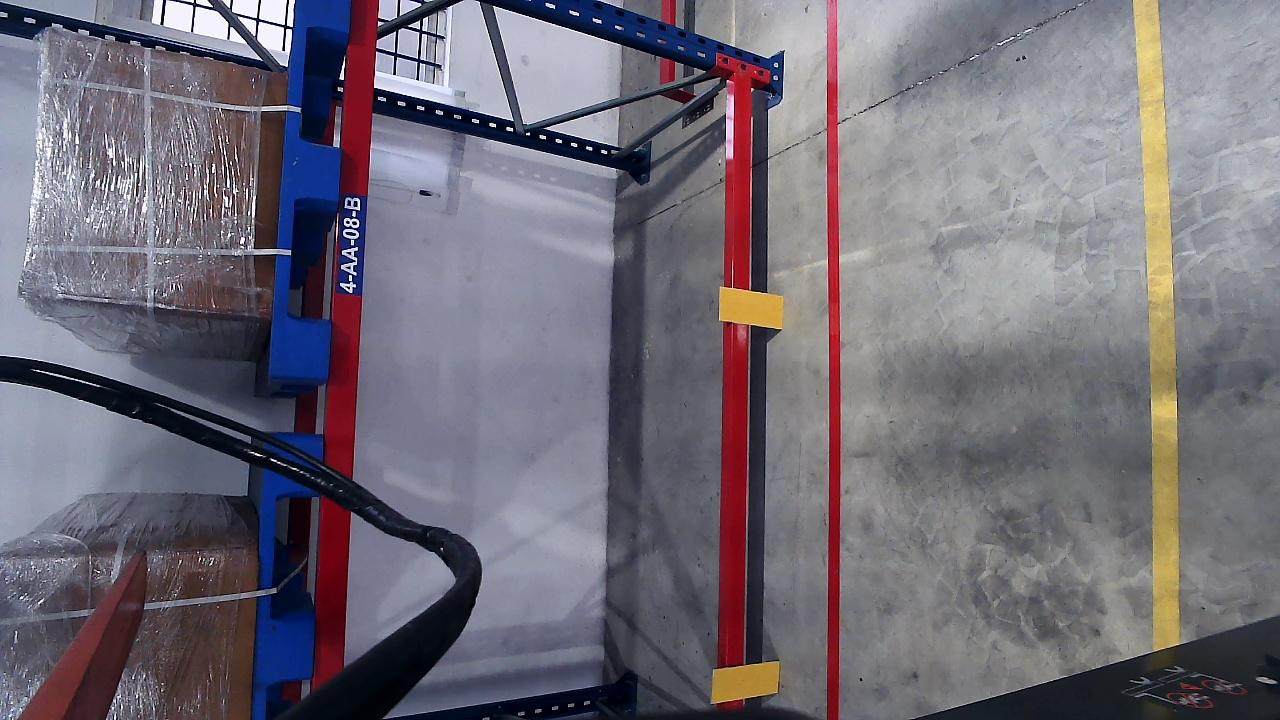h_rack: (316, 0, 381, 717), (725, 76, 759, 636)
orange_strip: (711, 660, 780, 702), (719, 287, 784, 329)
red_line: (826, 0, 837, 720)
small_pallet: (271, 0, 353, 386), (249, 431, 324, 720)
yellow_line: (1135, 0, 1181, 649)
